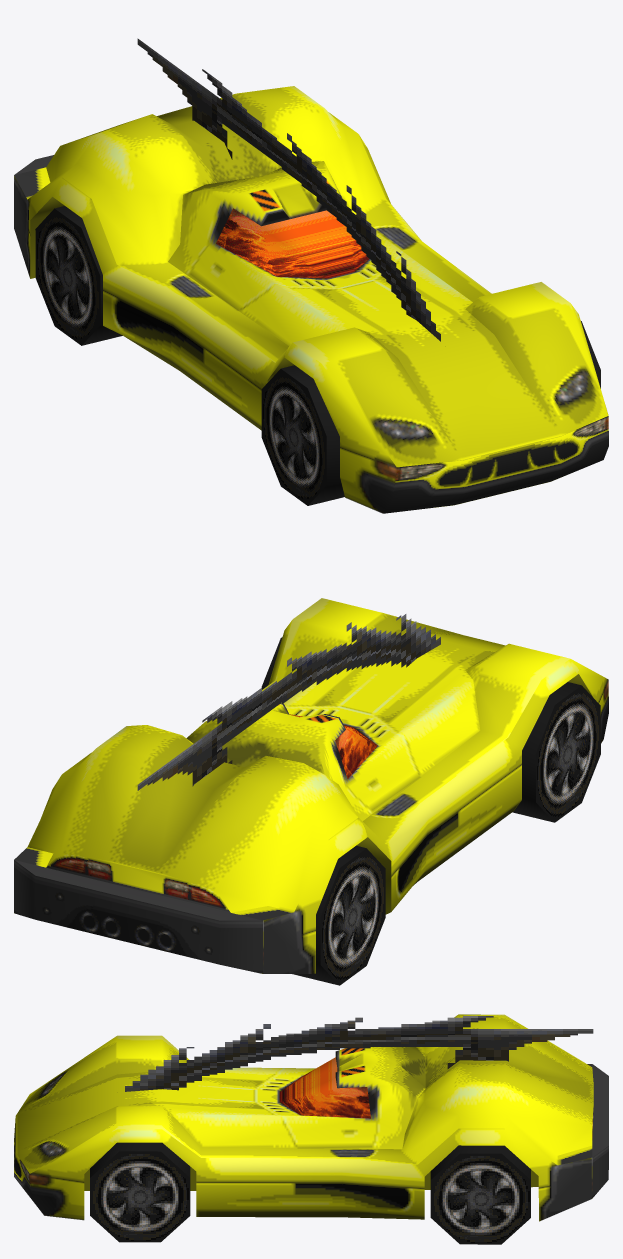
The model's file is EAGYELE.obj.
The picture shows the model from 3 angles, top to bottom: view 1: azimuth 30°, elevation 25°; view 2: azimuth 150°, elevation 25°; view 3: azimuth 270°, elevation 25°; orthographic projection. The views are drawn at different scales.
Visible parts, largest first — view 1: EAGYELE.DAT, WHEEL.DAT.003, WHEEL.DAT.001; view 2: EAGYELE.DAT, WHEEL.DAT.003, WHEEL.DAT.001; view 3: EAGYELE.DAT, WHEEL.DAT.002, WHEEL.DAT.
Part boxes in pixels (box(x1,y1,x2,y2)): EAGYELE.DAT: box(14, 38, 608, 513); WHEEL.DAT.003: box(261, 365, 344, 505); WHEEL.DAT.001: box(35, 206, 122, 345); EAGYELE.DAT: box(14, 598, 608, 973); WHEEL.DAT.003: box(512, 682, 600, 822); WHEEL.DAT.001: box(292, 845, 385, 985); EAGYELE.DAT: box(14, 1014, 608, 1221); WHEEL.DAT.002: box(90, 1142, 190, 1242); WHEEL.DAT: box(430, 1145, 530, 1244).
Size of the model in its own units: 0.3614 by 0.2713 by 0.8365.
Materials: 9 (9 with a texture image).
